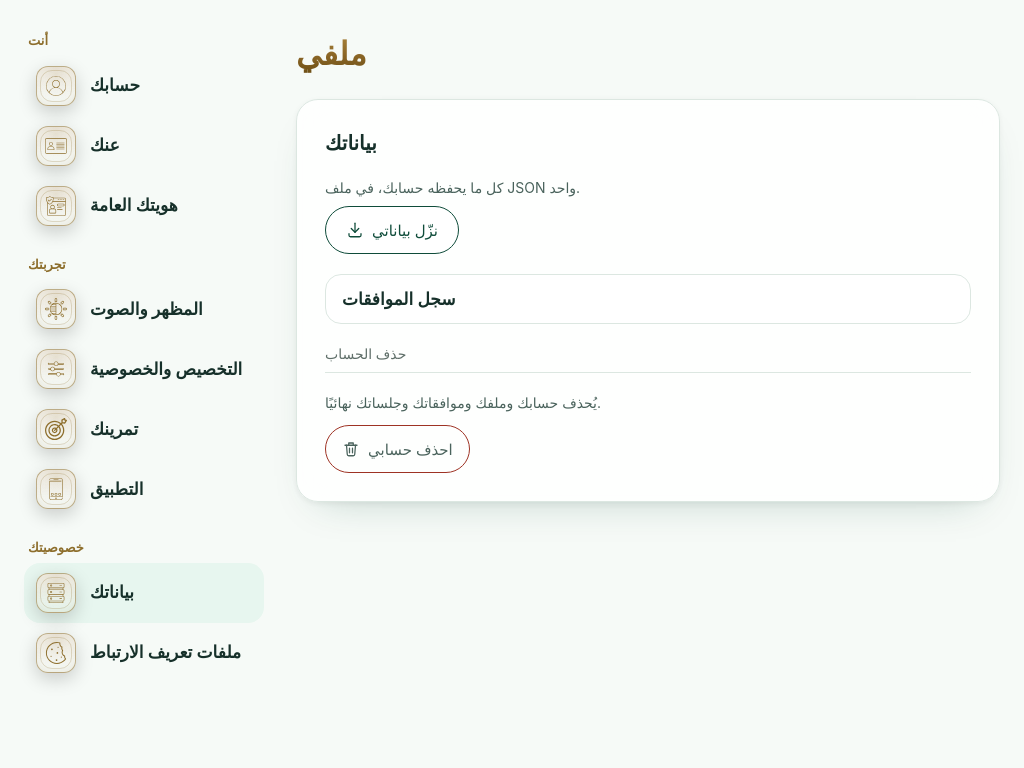
it: MeScreen data › downloads everything the account owns as a file
The image size is (1024, 768).
Click the button "نزّل بياناتي".
click(392, 230)  # box [325,206,459,254]
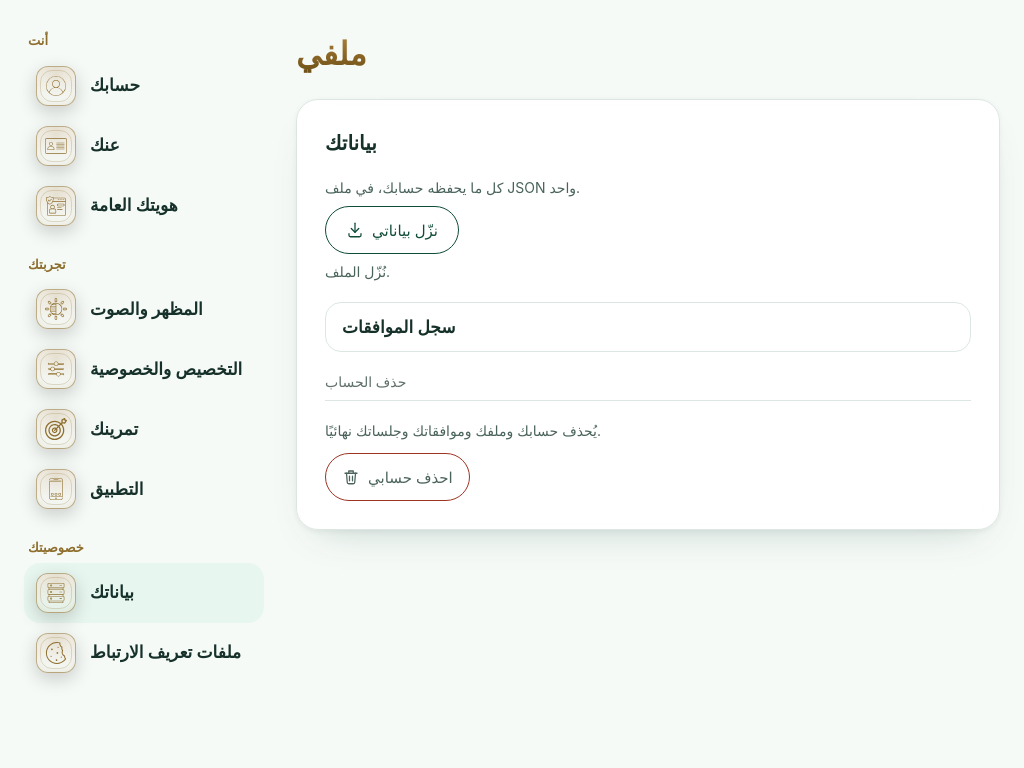
Now the text "نُزّل الملف." is shown, box [325,262,390,282]
